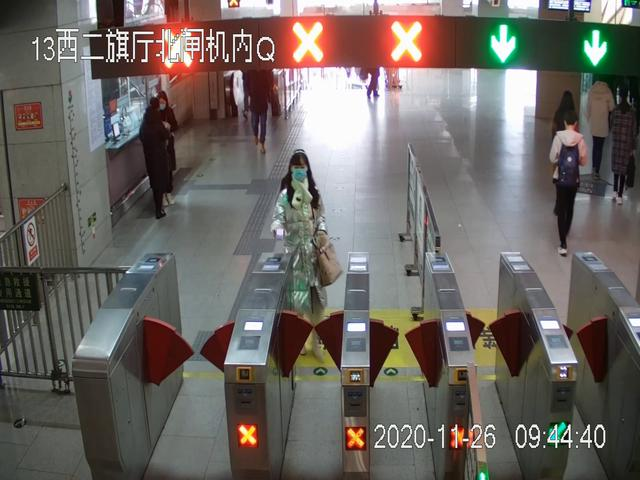person: (271, 148, 338, 361), (546, 113, 592, 256), (141, 96, 177, 220)
